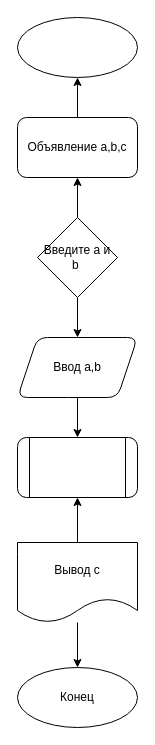
Image size: 155x745. Some labels were removed from this diagram. The shapes that lost their labels are listed below. From the top down, each one's centre as x and y in pixels, then its label:
(77,47): Начало
(77,467): Умножение a на b (получаем c)
